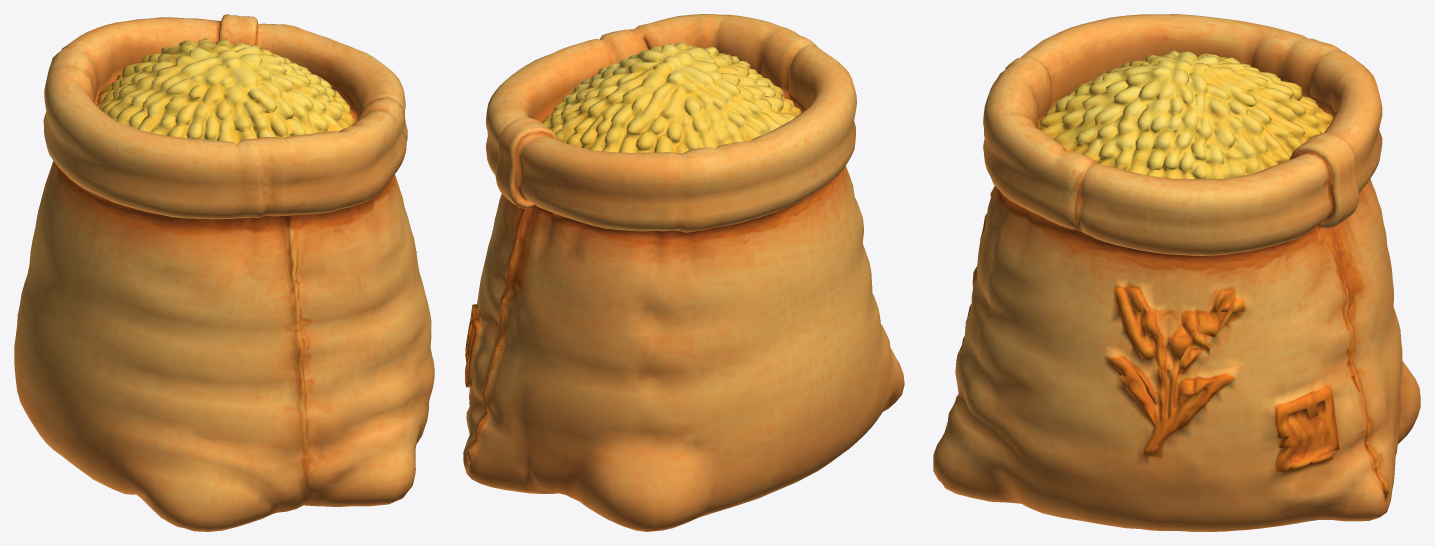
Rendered from tripo_convert_c5ded7be-a1b0-4753-af6e-3e3a8026b04b.glb.
The picture shows the model from 3 angles, left to right: view 1: azimuth 30°, elevation 25°; view 2: azimuth 150°, elevation 25°; view 3: azimuth 270°, elevation 25°; orthographic projection. The views are drawn at different scales.
Parts seen in each view (by area): view 1: tripo_node_c5ded7be-a1b0-4753-af6e-3e3a8026b04b; view 2: tripo_node_c5ded7be-a1b0-4753-af6e-3e3a8026b04b; view 3: tripo_node_c5ded7be-a1b0-4753-af6e-3e3a8026b04b.
Part boxes in pixels (bbox=[...]): tripo_node_c5ded7be-a1b0-4753-af6e-3e3a8026b04b: bbox=[14, 14, 434, 531]; tripo_node_c5ded7be-a1b0-4753-af6e-3e3a8026b04b: bbox=[463, 14, 904, 531]; tripo_node_c5ded7be-a1b0-4753-af6e-3e3a8026b04b: bbox=[933, 14, 1420, 531].
Bounding box in the file's own units: 0.8526 × 0.8986 × 0.9791.
1 material, 1 textured.
